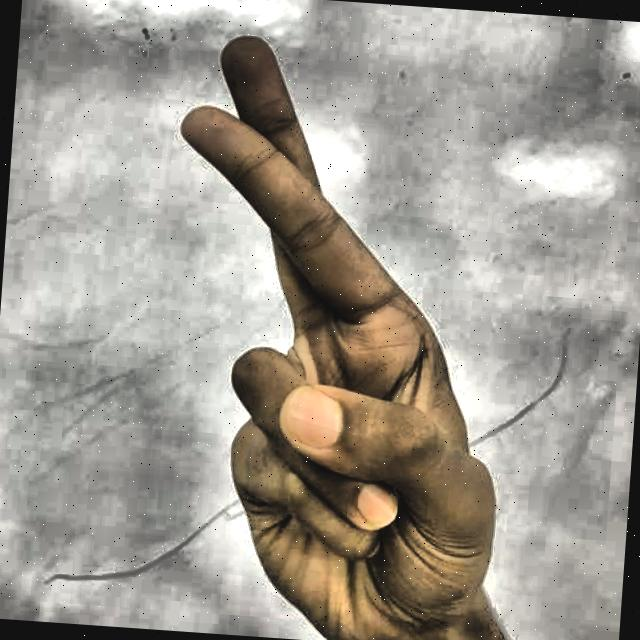Ra: (98, 0, 555, 640)
